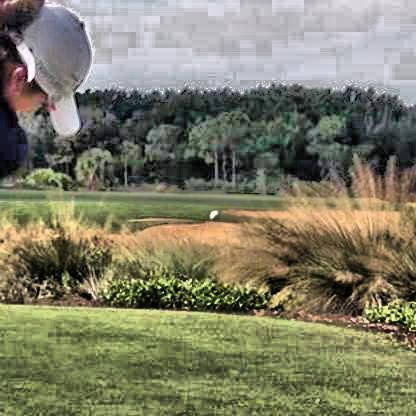golfball: (206, 206, 217, 221)
